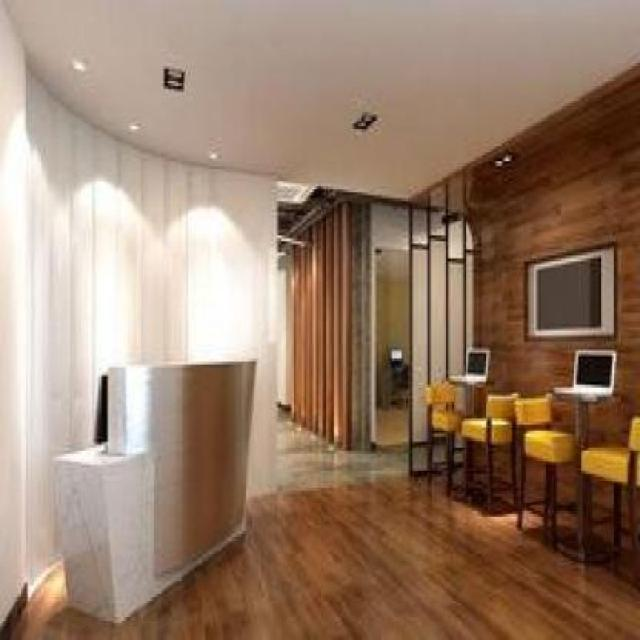frontdesk: (49, 349, 267, 627)
